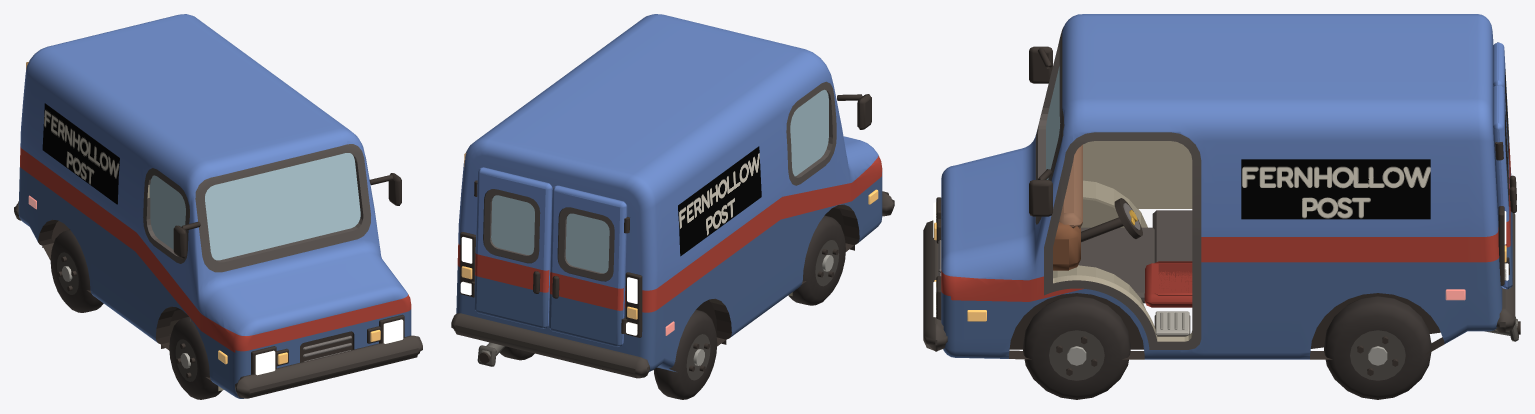
File: van.glb
3 views of the same model, side by side, from view 1: azimuth 30°, elevation 25°; view 2: azimuth 150°, elevation 25°; view 3: azimuth 270°, elevation 25° (orthographic). The views are drawn at different scales.
Parts seen in each view (by area): view 1: body, wheel_fr, wheel_rr, lamp_head; view 2: body, door_l_leaf, door_r_leaf, wheel_rr, wheel_fr, lamp_brake, tailpipe; view 3: body, wheel_rl, wheel_fl, door_l_leaf, door_r_leaf, steering.
Boxes of the visible parts, <box> form: body: <box>14,14,422,398</box>; wheel_fr: <box>169,317,222,399</box>; wheel_rr: <box>50,230,103,312</box>; lamp_head: <box>255,319,403,375</box>; body: <box>451,14,894,378</box>; door_l_leaf: <box>474,167,552,328</box>; door_r_leaf: <box>548,185,627,346</box>; wheel_rr: <box>653,310,717,399</box>; wheel_fr: <box>788,215,845,305</box>; lamp_brake: <box>461,237,637,303</box>; tailpipe: <box>477,342,504,366</box>; body: <box>923,14,1515,359</box>; wheel_rl: <box>1324,296,1431,399</box>; wheel_fl: <box>1023,296,1130,399</box>; door_l_leaf: <box>1493,85,1516,289</box>; door_r_leaf: <box>1493,42,1516,240</box>; steering: <box>1114,198,1142,238</box>.
Bounding box in the file's own units: 1.63 × 1.62 × 3.
Materials: 7 (7 with a texture image).
